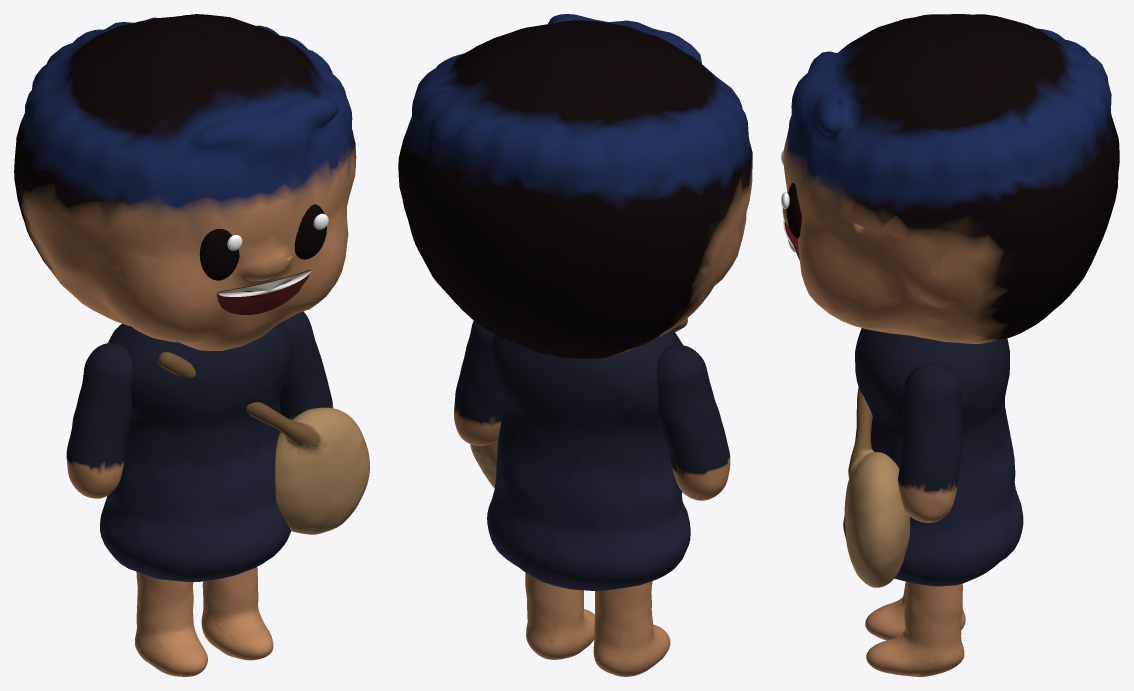
File: mael.glb
3 renders of one model, left to right at view 1: azimuth 30°, elevation 25°; view 2: azimuth 150°, elevation 25°; view 3: azimuth 270°, elevation 25°, orthographic. The views are drawn at different scales.
Visible parts, largest first — view 1: Head, Body, Koja, ArmL, LegL, LegR, ArmR, mouth, eye, eye.001, teeth; view 2: Head, Body, ArmL, LegL, LegR, ArmR, Koja; view 3: Head, Body, ArmR, Koja, LegR, LegL, eye.001.
Part boxes in pixels (bbox=[...]): Head: bbox=[14, 14, 356, 350]; Body: bbox=[100, 322, 292, 581]; Koja: bbox=[157, 351, 369, 534]; ArmL: bbox=[66, 343, 132, 498]; LegL: bbox=[135, 571, 207, 676]; LegR: bbox=[201, 567, 273, 660]; ArmR: bbox=[279, 311, 333, 420]; mouth: bbox=[216, 270, 311, 314]; eye: bbox=[199, 229, 239, 280]; eye.001: bbox=[294, 204, 326, 259]; teeth: bbox=[217, 270, 311, 296]; Head: bbox=[398, 14, 752, 358]; Body: bbox=[487, 329, 690, 590]; ArmL: bbox=[657, 345, 730, 500]; LegL: bbox=[593, 581, 670, 676]; LegR: bbox=[525, 572, 594, 659]; ArmR: bbox=[454, 321, 503, 445]; Koja: bbox=[470, 318, 687, 487]; Head: bbox=[782, 14, 1119, 343]; Body: bbox=[843, 328, 1023, 586]; ArmR: bbox=[898, 363, 962, 522]; Koja: bbox=[844, 387, 910, 587]; LegR: bbox=[866, 581, 964, 676]; LegL: bbox=[865, 583, 965, 640]; eye.001: bbox=[786, 183, 801, 238].
Bounding box in the file's own units: 0.8165 × 1.6 × 0.7857.
